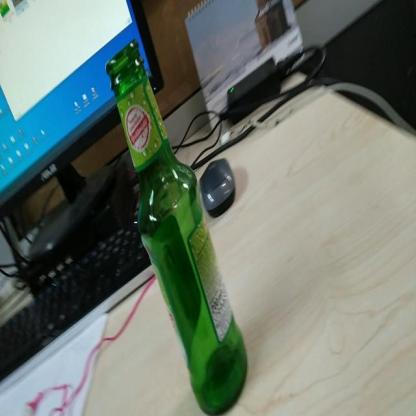Can: (105, 37, 249, 416)
